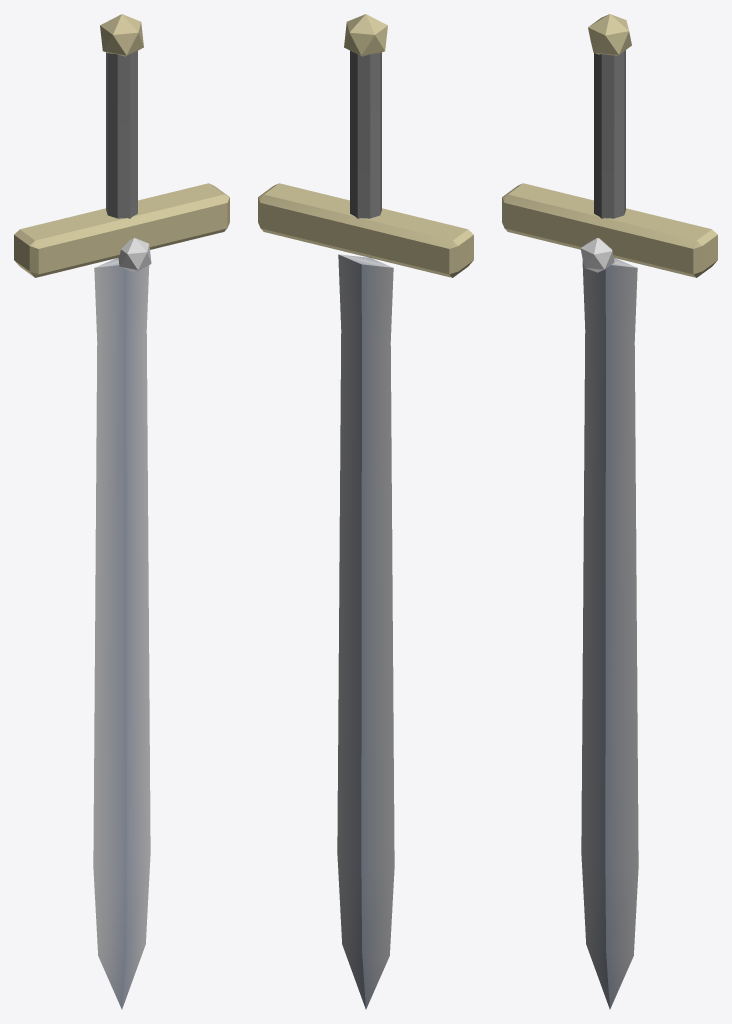
The model's file is vfx_blade.glb.
The picture shows the model from 3 angles, left to right: view 1: azimuth 30°, elevation 25°; view 2: azimuth 150°, elevation 25°; view 3: azimuth 330°, elevation 25°; orthographic projection.
Visible parts, largest first — view 1: fx; view 2: fx; view 3: fx.
Part boxes in pixels (x1=…): fx: x1=14, y1=14, x2=229, y2=1009; fx: x1=258, y1=14, x2=473, y2=1009; fx: x1=502, y1=14, x2=717, y2=1009.
Bounding box in the file's own units: 0.42 × 2 × 0.1148.
